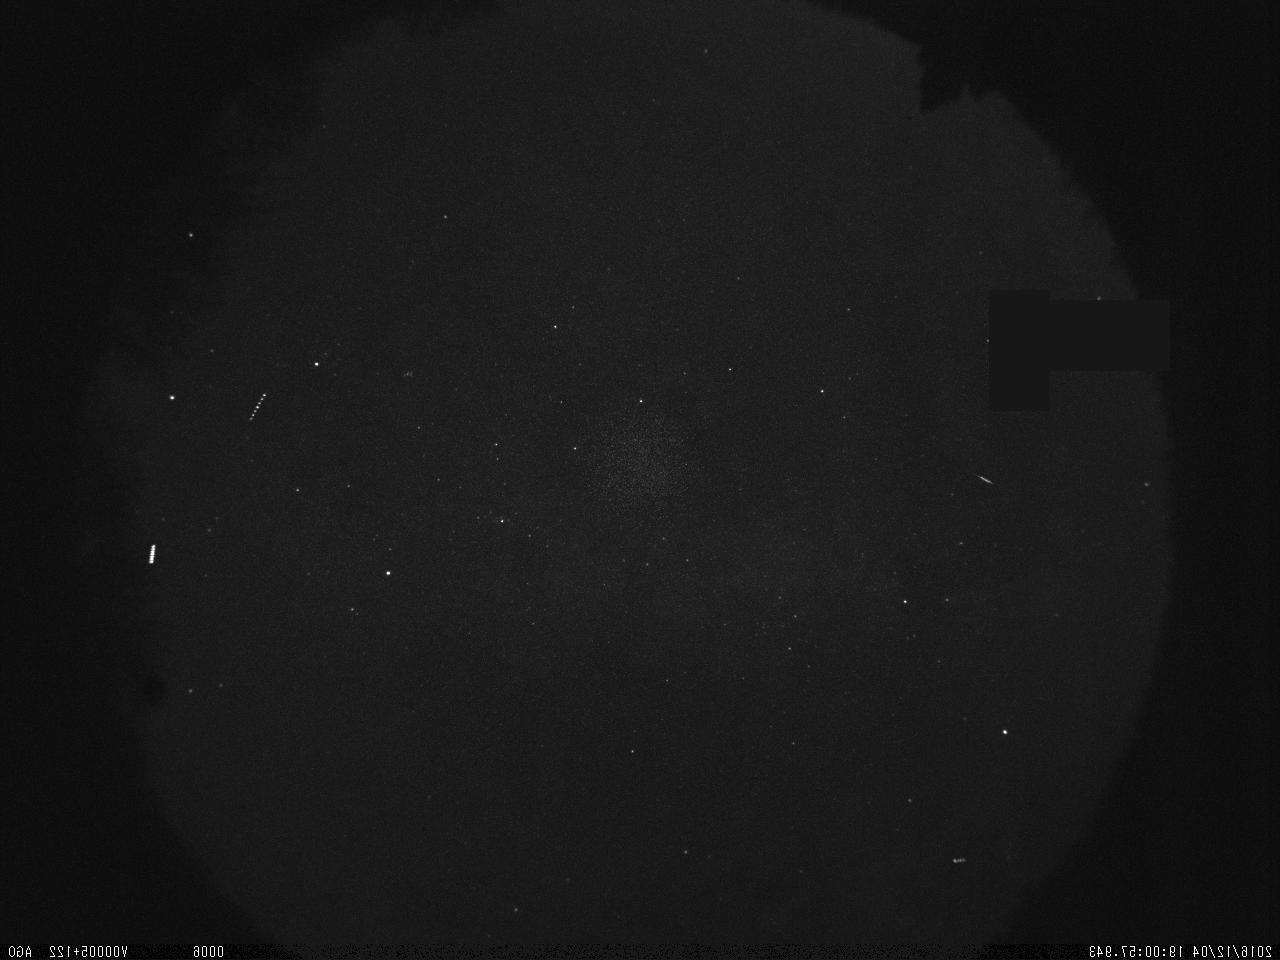meteor: (957, 459, 1004, 492)
satelite: (240, 383, 271, 433), (141, 538, 160, 574)
